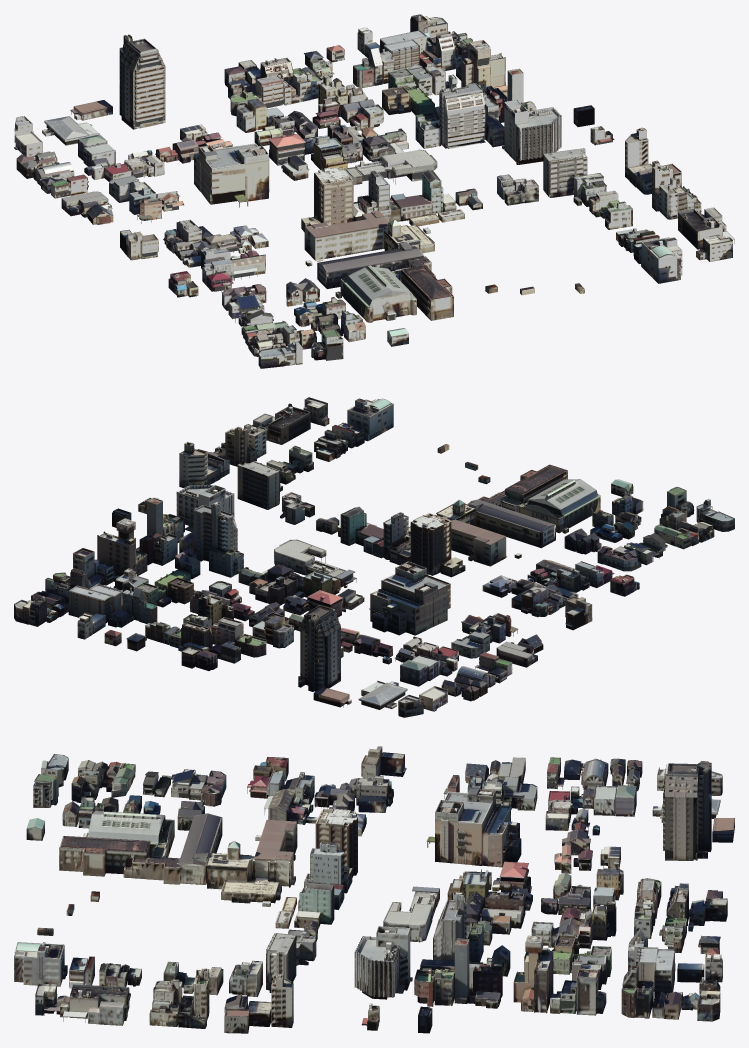
The model's file is station-6-0-packed.glb.
3 views of the same model, one above another, from view 1: azimuth 30°, elevation 25°; view 2: azimuth 150°, elevation 25°; view 3: azimuth 270°, elevation 25° (orthographic). The views are drawn at different scales.
Size of the model in its own units: 312 by 49.48 by 349.
Materials: 16 (15 with a texture image).
